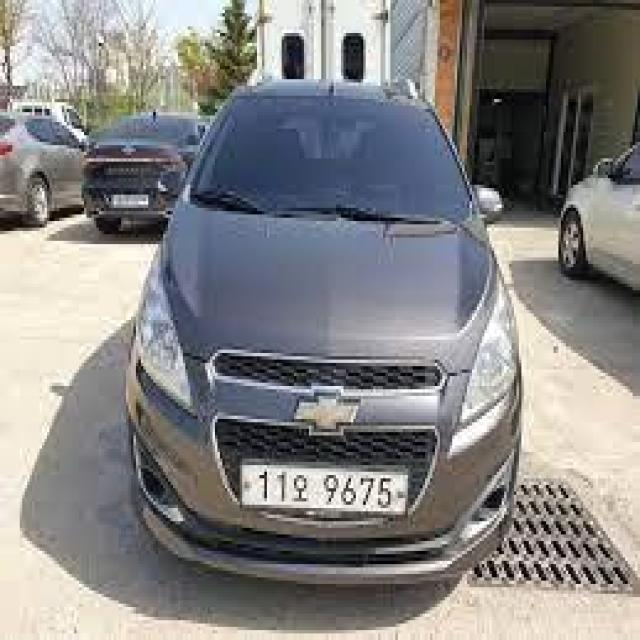car: (122, 67, 530, 601)
illegal_plate: (239, 459, 410, 524)
